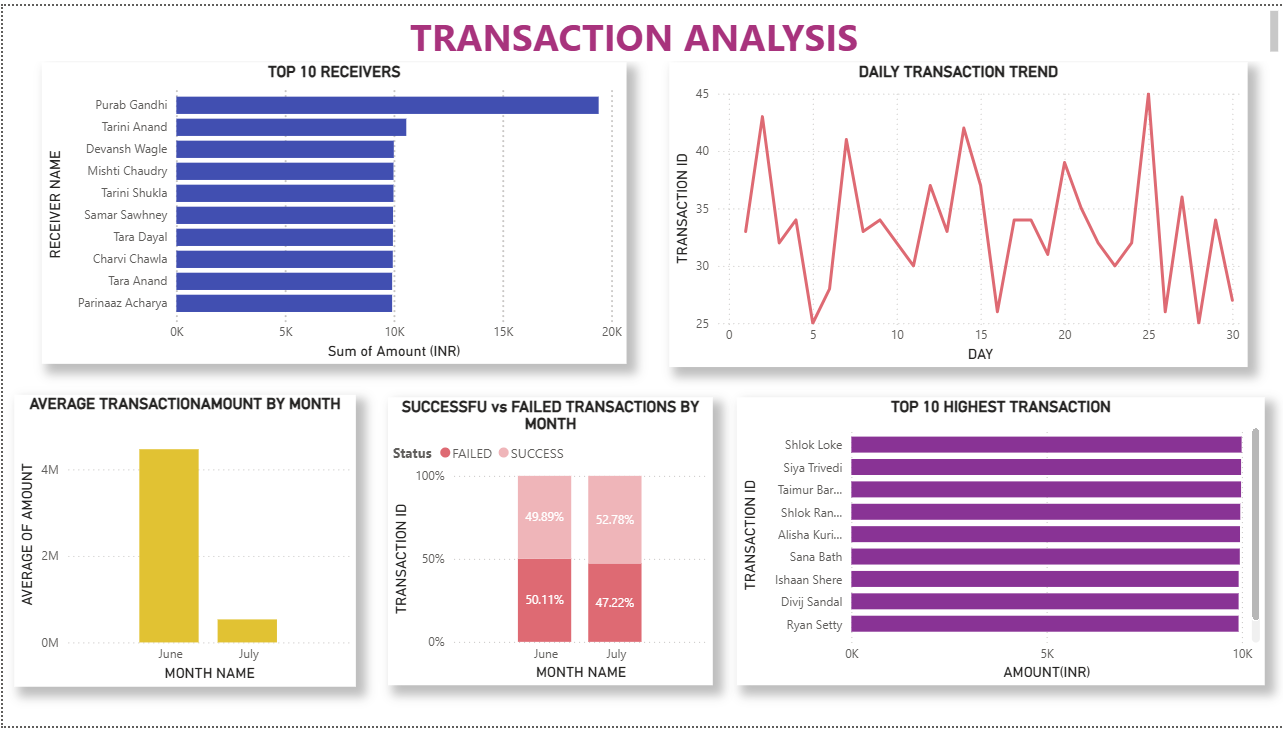

The dashboard page shown, as its layout file describes it:
{"tool":"powerbi","page":{"name":"TRANSACTION ANALYSIS","canvas":[1280,720],"ordinal":2},"visuals":[{"type":"clusteredBarChart","title":"TOP 10 HIGHEST TRANSACTION ","fields":{"Category":["transactions (2).Sender Name"],"Y":["Sum(transactions (2).Amount (INR))"]},"box":[733.3,391.7,528.3,288.3],"z":0},{"type":"lineChart","title":"DAILY TRANSACTION TREND","fields":{"Category":["transactions (2).Day"],"Y":["CountNonNull(transactions (2).Transaction ID)"]},"box":[666.7,56.7,578.3,305],"z":1000},{"type":"columnChart","title":"AVERAGE TRANSACTIONAMOUNT BY MONTH","fields":{"Category":["transactions (2).Month Name"],"Y":["Sum(transactions (2).Amount (INR))"]},"box":[11.7,388.3,341.7,291.7],"z":2000},{"type":"hundredPercentStackedColumnChart","title":"SUCCESSFULL vs FAILED TRANSACTIONS BY MONTH","fields":{"Category":["transactions (2).Month Name"],"Series":["transactions (2).Status"],"Y":["CountNonNull(transactions (2).Transaction ID)"]},"box":[385,391.7,325,288.3],"z":3000},{"type":"barChart","title":"TOP 10 RECEIVERS ","fields":{"Category":["transactions (2).Receiver Name"],"Y":["Sum(transactions (2).Amount (INR))"]},"box":[38.3,56.7,585,301.7],"z":4000},{"type":"textbox","box":[0,0,1280,55],"z":5000}]}

Visuals, with their boxes in screenshot pixels (x1, y1, x2, y2), scaled from the page's 1280x720 canvas onto the 1283x731 screenshot:
"TOP 10 HIGHEST TRANSACTION " clusteredBarChart: box(735, 398, 1265, 690)
"DAILY TRANSACTION TREND" lineChart: box(668, 58, 1248, 367)
"AVERAGE TRANSACTIONAMOUNT BY MONTH" columnChart: box(12, 394, 354, 690)
"SUCCESSFULL vs FAILED TRANSACTIONS BY MONTH" hundredPercentStackedColumnChart: box(386, 398, 712, 690)
"TOP 10 RECEIVERS " barChart: box(38, 58, 625, 364)
textbox: box(0, 0, 1282, 56)
